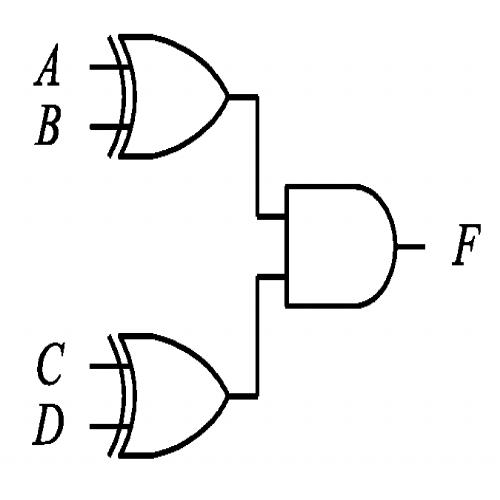and: (265, 168, 414, 330)
xor: (96, 320, 244, 475), (98, 20, 242, 170)
